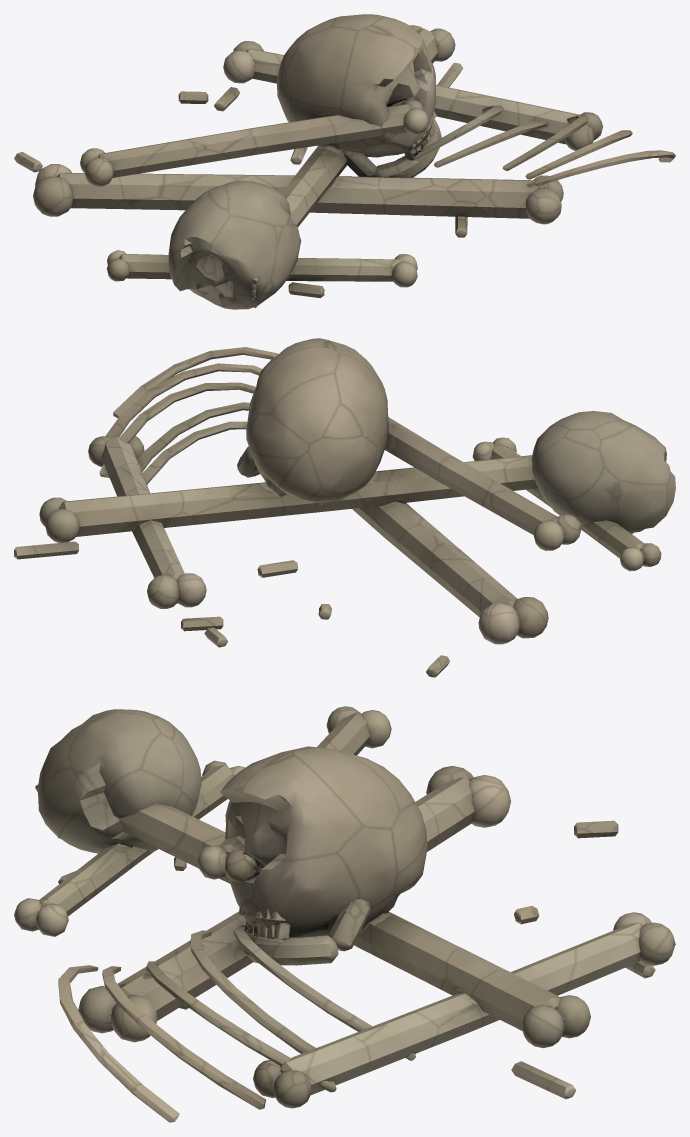
The model's file is bone_pile.glb.
3 views of the same model, one above another, from view 1: azimuth 30°, elevation 25°; view 2: azimuth 150°, elevation 25°; view 3: azimuth 270°, elevation 25° (orthographic). The views are drawn at different scales.
Parts seen in each view (by area): view 1: bone_pile; view 2: bone_pile; view 3: bone_pile.
Boxes of the visible parts, left/top/right/bottom form: bone_pile: left=14, top=14, right=675, bottom=309; bone_pile: left=14, top=338, right=675, bottom=677; bone_pile: left=14, top=706, right=675, bottom=1122.
Size of the model in its own units: 0.741 by 0.2298 by 0.6043.
1 material, 1 textured.
